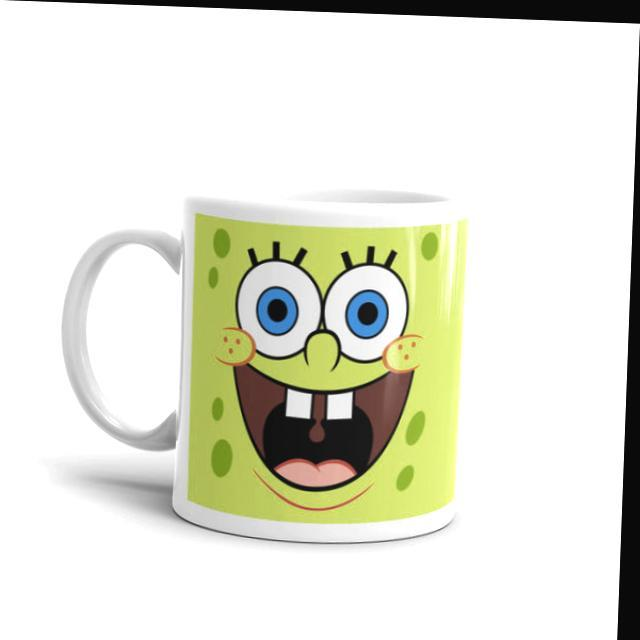cup: (45, 146, 498, 608)
